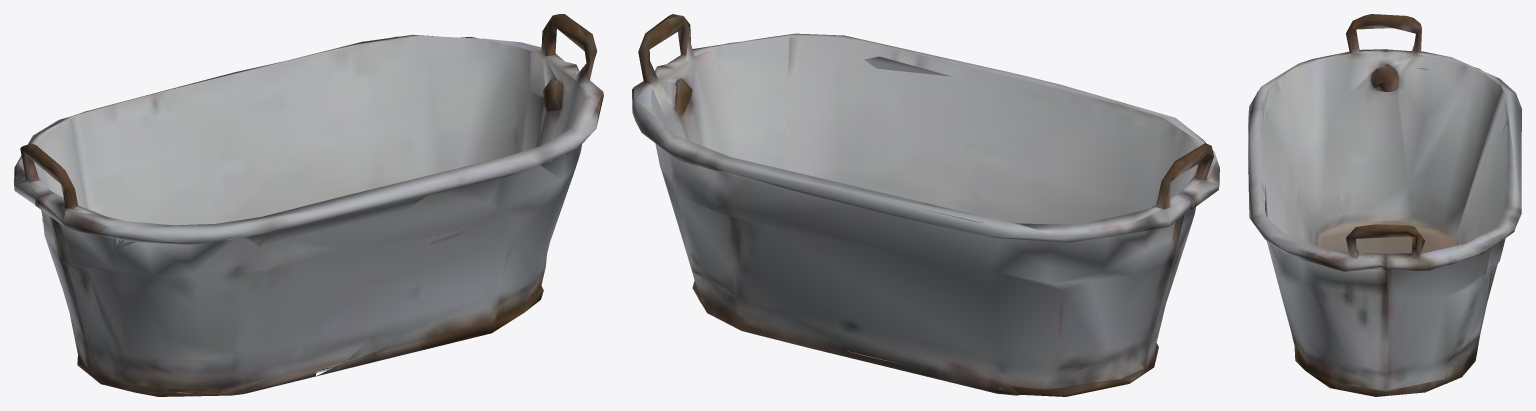
The model's file is tina_lata.movil.glb.
3 views of the same model, side by side, from view 1: azimuth 30°, elevation 25°; view 2: azimuth 150°, elevation 25°; view 3: azimuth 270°, elevation 25° (orthographic). The views are drawn at different scales.
Parts seen in each view (by area): view 1: geometry_0; view 2: geometry_0; view 3: geometry_0.
Part boxes in pixels (x1=…): geometry_0: x1=14, y1=14, x2=603, y2=396; geometry_0: x1=632, y1=14, x2=1219, y2=396; geometry_0: x1=1248, y1=14, x2=1521, y2=396.
Bounding box in the file's own units: 1.2 × 0.4986 × 0.6453.
Materials: 1 (1 with a texture image).
